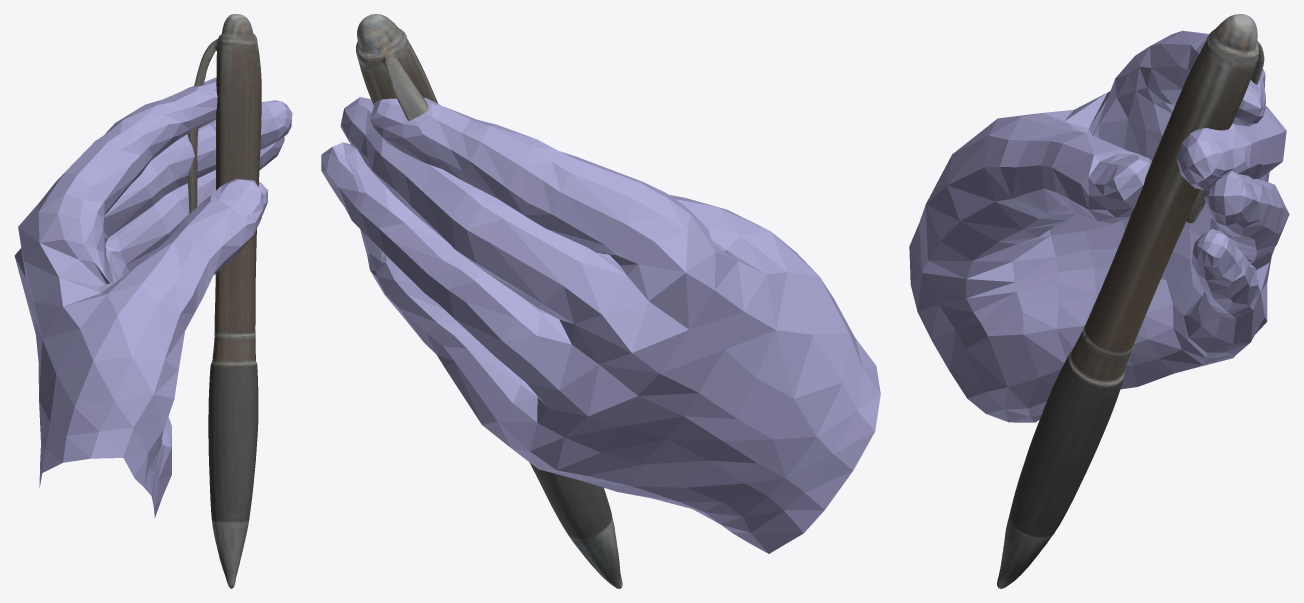
The model's file is frame_0000_source_000000_hand_object.glb.
3 views of the same model, side by side, from view 1: azimuth 30°, elevation 25°; view 2: azimuth 150°, elevation 25°; view 3: azimuth 270°, elevation 25° (orthographic). The views are drawn at different scales.
Parts seen in each view (by area): view 1: world; view 2: world; view 3: world.
Boxes of the visible parts, x1,y1,x2,y2 form: world: (14, 14, 292, 588); world: (321, 14, 880, 588); world: (909, 14, 1289, 588).
Bounding box in the file's own units: 0.1282 × 0.1781 × 0.0967.
